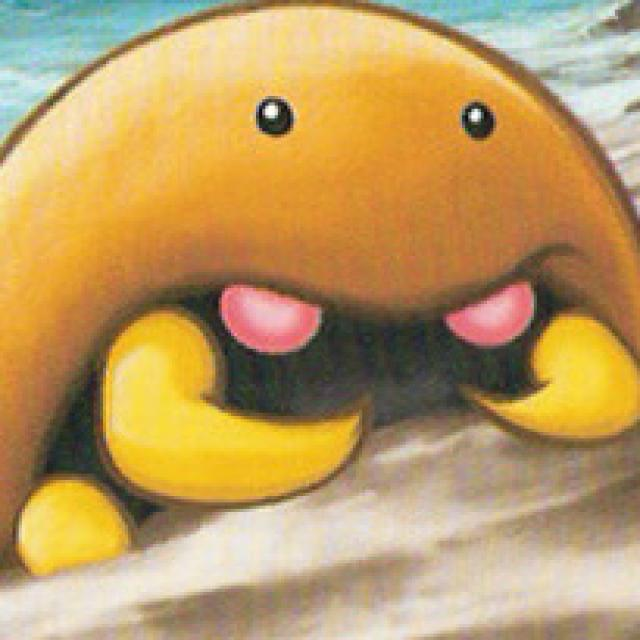Kabuto: (6, 0, 637, 573)
